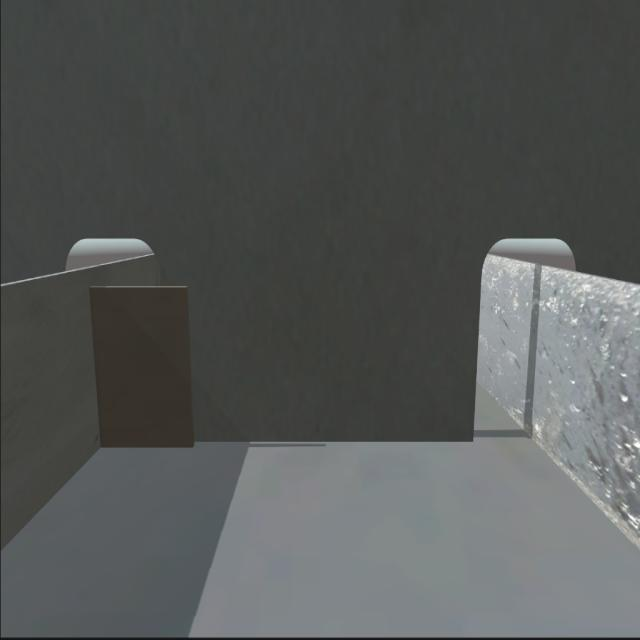fillet_yong_jeop_jang: (98, 432, 484, 457)
longi_yong_jeop_jang: (86, 284, 112, 453)
plate_CP01: (91, 289, 198, 447)
